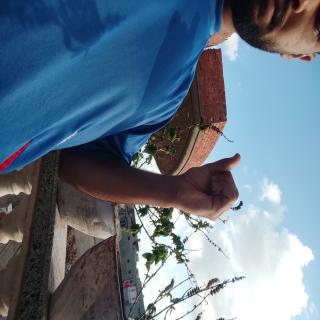WAW: (110, 98, 169, 195)
